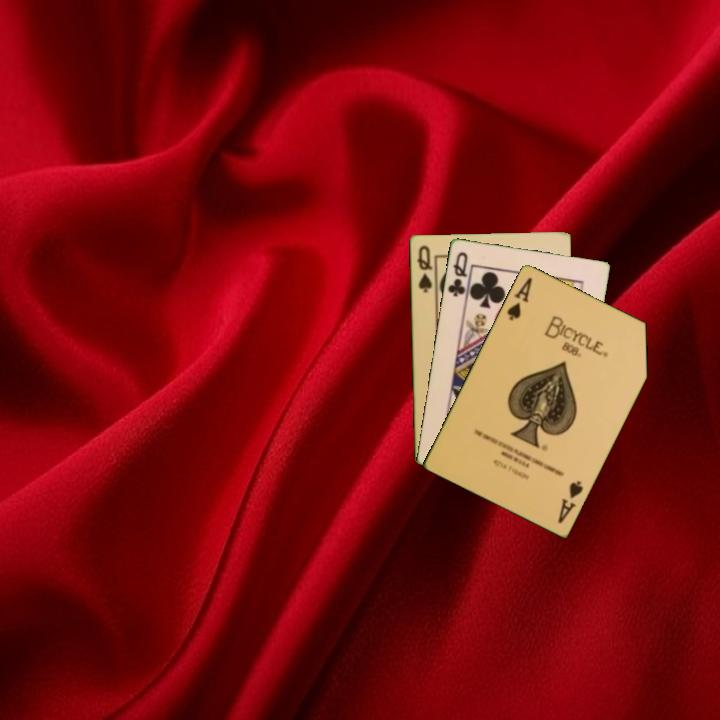As: (503, 273, 535, 323), (554, 477, 586, 526)
Qc: (444, 248, 471, 302)
Qs: (414, 241, 435, 295)
